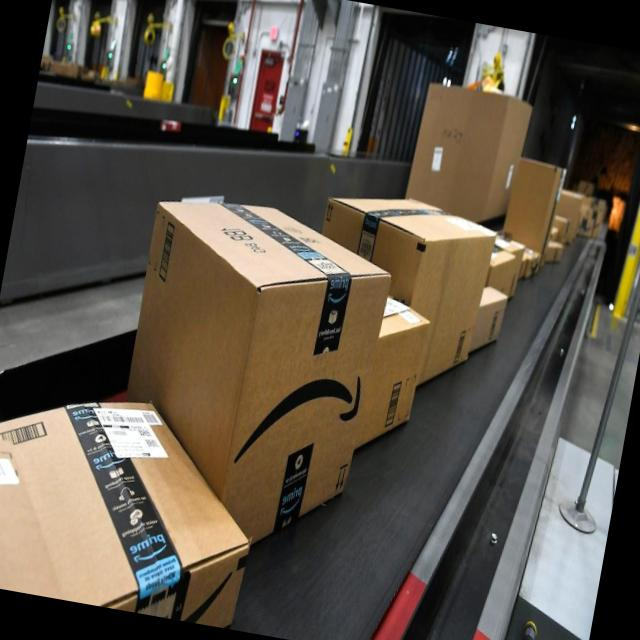Pathole: (81, 178, 404, 570), (0, 368, 277, 631), (292, 177, 509, 405)
